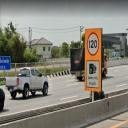speed_limit_120: (86, 30, 100, 57)
